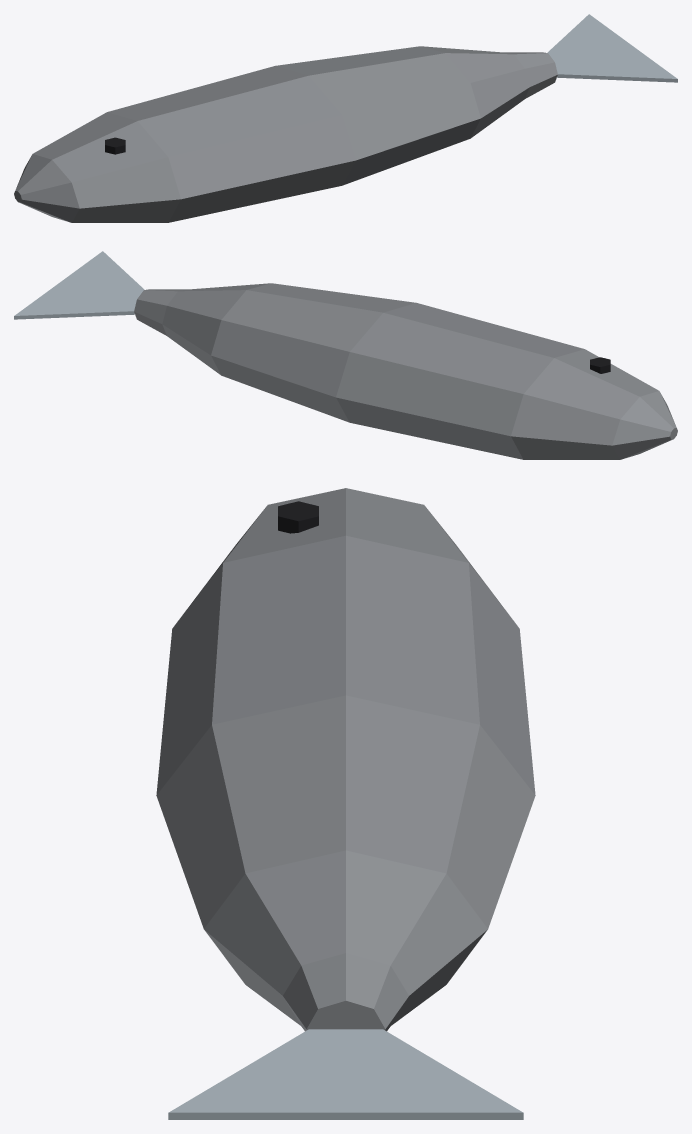
The model's file is FD_Fish_01.glb.
The picture shows the model from 3 angles, top to bottom: view 1: azimuth 30°, elevation 25°; view 2: azimuth 150°, elevation 25°; view 3: azimuth 270°, elevation 25°; orthographic projection. The views are drawn at different scales.
Parts seen in each view (by area): view 1: FD_Fish_01; view 2: FD_Fish_01; view 3: FD_Fish_01.
Boxes of the visible parts, x1,y1,x2,y2 form: FD_Fish_01: (14,14,677,222); FD_Fish_01: (14,251,677,459); FD_Fish_01: (156,488,535,1119).
Size of the model in its own units: 0.36 by 0.056 by 0.096.
1 material, 1 textured.
